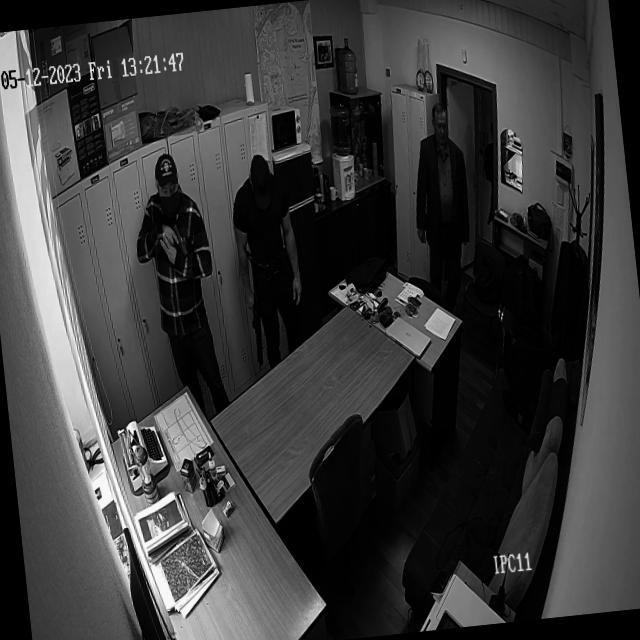gun: (240, 242, 275, 374), (166, 216, 192, 269)
person: (405, 99, 480, 275)
person with a gun: (124, 152, 233, 415), (222, 148, 316, 382)
